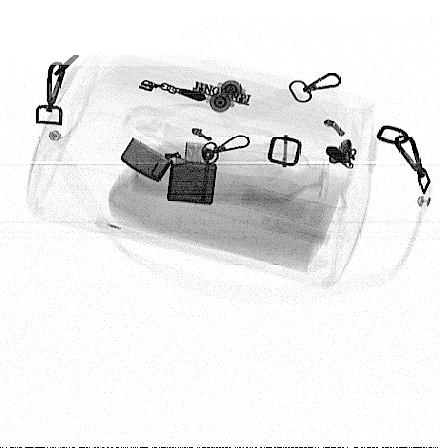Lighter: (120, 136, 218, 205)
